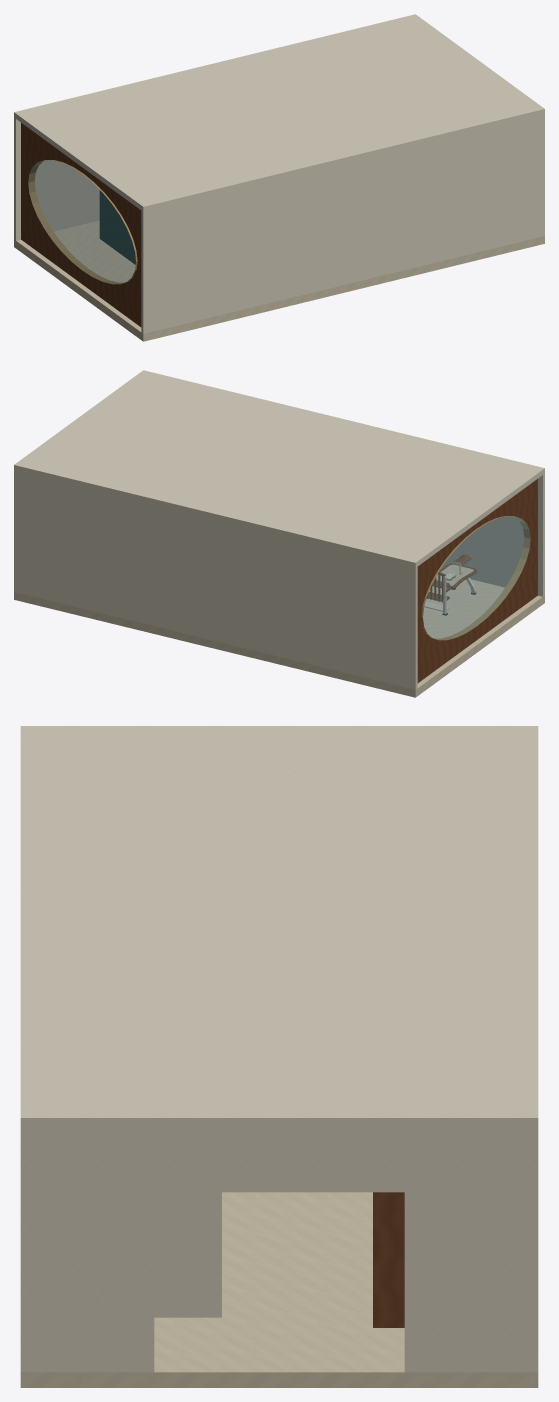
File: QuietGroveSpecialty_135_r001.glb
3 views of the same model, one above another, from view 1: azimuth 30°, elevation 25°; view 2: azimuth 150°, elevation 25°; view 3: azimuth 270°, elevation 25° (orthographic). The views are drawn at different scales.
Parts seen in each view (by area): view 1: QG135_Ceiling, QG135_SouthSide, QG135_OvalAtriumGlass, QG135_RoomFloor, QG135_OvalWindowReveal, QG135_NorthSide, QG135_OvalDepthReturn, QG135_Cocoon_RearLiner; view 2: QG135_Ceiling, QG135_NorthSide, QG135_OvalAtriumGlass, QG135_RoomFloor, QG135_OvalWindowReveal, QG135_SouthSide, QG135_OvalDepthReturn; view 3: QG135_Ceiling, QG135_RoomFloor, QG135_EntryShoulderNorth, QG135_EntryShoulderSouth, QG135_EntryHeader, QG135_WashEntrySide, QG135_EntryPrivacyDogleg, QG135_NorthSide, QG135_SouthSide.
Part boxes in pixels (left/top/right/bottom): QG135_Ceiling: left=14, top=14, right=544, bottom=211; QG135_SouthSide: left=141, top=114, right=544, bottom=333; QG135_OvalAtriumGlass: left=28, top=160, right=135, bottom=283; QG135_RoomFloor: left=14, top=220, right=544, bottom=341; QG135_OvalWindowReveal: left=21, top=123, right=141, bottom=326; QG135_NorthSide: left=14, top=117, right=99, bottom=240; QG135_OvalDepthReturn: left=28, top=160, right=137, bottom=284; QG135_Cocoon_RearLiner: left=101, top=191, right=135, bottom=264; QG135_Ceiling: left=14, top=370, right=544, bottom=567; QG135_NorthSide: left=14, top=470, right=417, bottom=689; QG135_OvalAtriumGlass: left=423, top=516, right=530, bottom=639; QG135_RoomFloor: left=14, top=579, right=544, bottom=697; QG135_OvalWindowReveal: left=417, top=479, right=537, bottom=682; QG135_SouthSide: left=440, top=473, right=544, bottom=596; QG135_OvalDepthReturn: left=421, top=516, right=530, bottom=640; QG135_Ceiling: left=20, top=726, right=538, bottom=1128; QG135_RoomFloor: left=20, top=1192, right=538, bottom=1387; QG135_EntryShoulderNorth: left=404, top=1128, right=529, bottom=1372; QG135_EntryShoulderSouth: left=29, top=1128, right=154, bottom=1372; QG135_EntryHeader: left=150, top=1128, right=408, bottom=1192; QG135_WashEntrySide: left=154, top=1192, right=221, bottom=1317; QG135_EntryPrivacyDogleg: left=373, top=1192, right=404, bottom=1327; QG135_NorthSide: left=529, top=1128, right=538, bottom=1372; QG135_SouthSide: left=20, top=1128, right=29, bottom=1372.
Bounding box in the file's own units: 12.9 × 4.14 × 7.2.
Materials: 58 (43 with a texture image).
